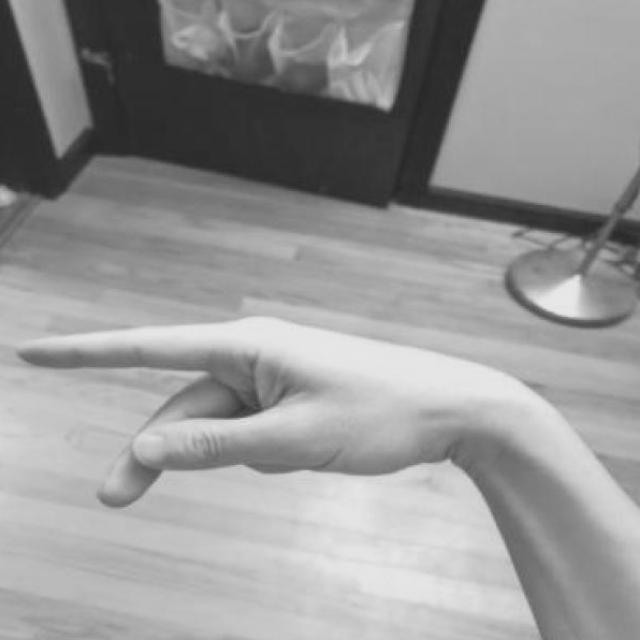P: (7, 303, 551, 536)
